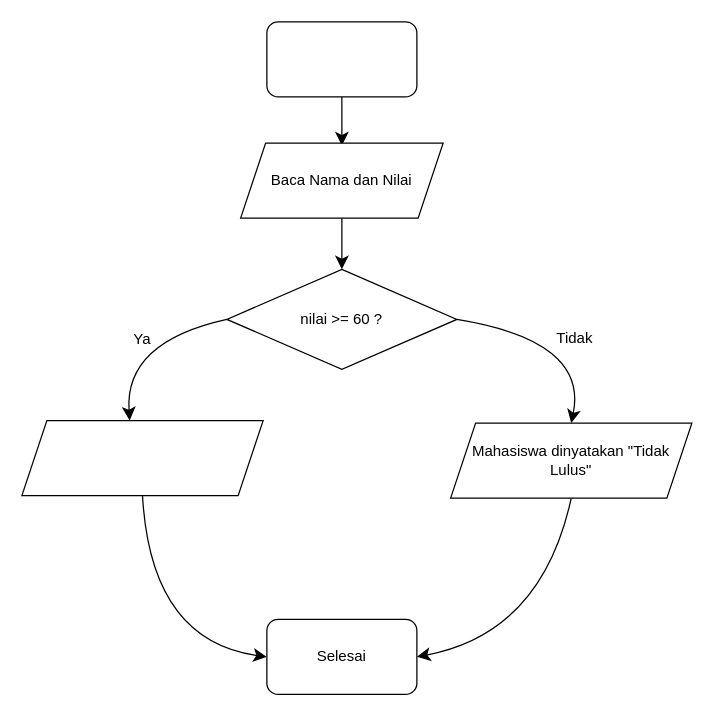
Some shapes in this 714 by 716 pixel diagram are drawn without their labels. The centre of each missing label's shape, as x and y in pixels:
Mahasiswa dinyatakan Lulus: the point at 142,457
Mulai: the point at 341,59
